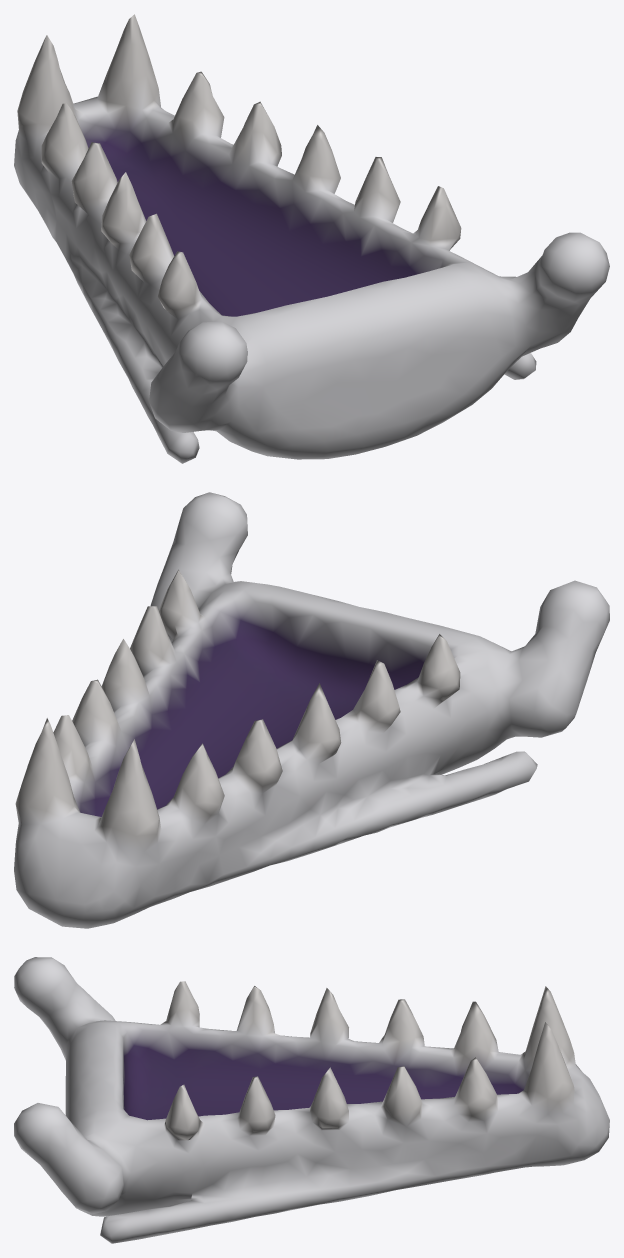
Rendered from BlasterJawEclipse.glb.
3 renders of one model, top to bottom at view 1: azimuth 30°, elevation 25°; view 2: azimuth 150°, elevation 25°; view 3: azimuth 270°, elevation 25°, orthographic. The views are drawn at different scales.
Parts seen in each view (by area): view 1: BlasterJawEclipse; view 2: BlasterJawEclipse; view 3: BlasterJawEclipse.
Boxes of the visible parts, bbox=[...] form: BlasterJawEclipse: bbox=[14, 14, 609, 463]; BlasterJawEclipse: bbox=[14, 492, 609, 928]; BlasterJawEclipse: bbox=[14, 957, 609, 1243].
Bounding box in the file's own units: 1.74 × 0.9065 × 2.57.
